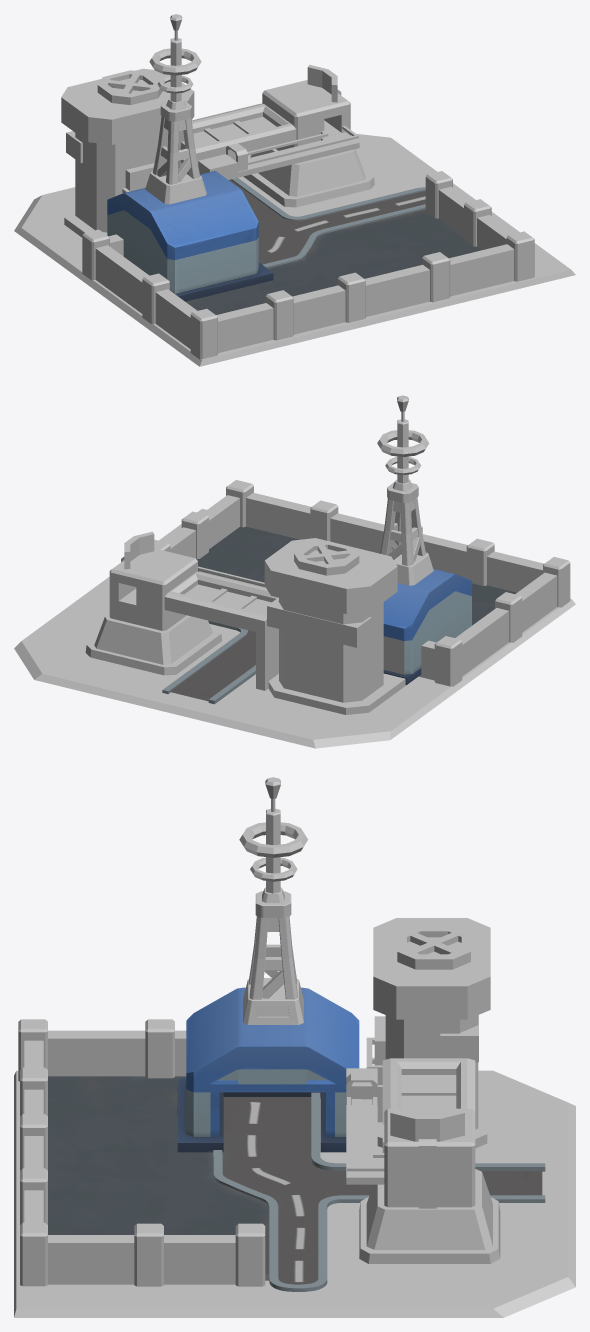
Rendered from zhucheng(1).fbx.
The picture shows the model from 3 angles, top to bottom: view 1: azimuth 30°, elevation 25°; view 2: azimuth 150°, elevation 25°; view 3: azimuth 270°, elevation 25°; orthographic projection. The views are drawn at different scales.
Parts seen in each view (by area): view 1: 主城地基蓝色, 主城蓝色, 主城附加蓝色; view 2: 主城蓝色, 主城地基蓝色, 主城附加蓝色; view 3: 主城地基蓝色, 主城附加蓝色, 主城蓝色.
Boxes of the visible parts, x1,y1,x2,y2 form: 主城地基蓝色: (14, 133, 575, 366); 主城蓝色: (61, 14, 374, 237); 主城附加蓝色: (107, 171, 481, 314); 主城蓝色: (85, 395, 433, 714); 主城地基蓝色: (14, 480, 575, 748); 主城附加蓝色: (162, 526, 516, 704); 主城地基蓝色: (14, 1019, 575, 1317); 主城附加蓝色: (48, 987, 545, 1291); 主城蓝色: (239, 777, 500, 1263).
Size of the model in its own units: 50.06 by 33.14 by 49.06.
